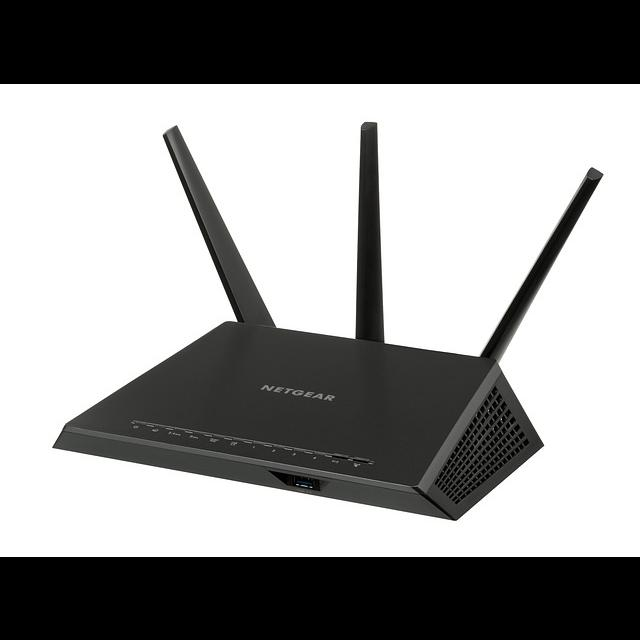Router: (54, 122, 603, 523)
